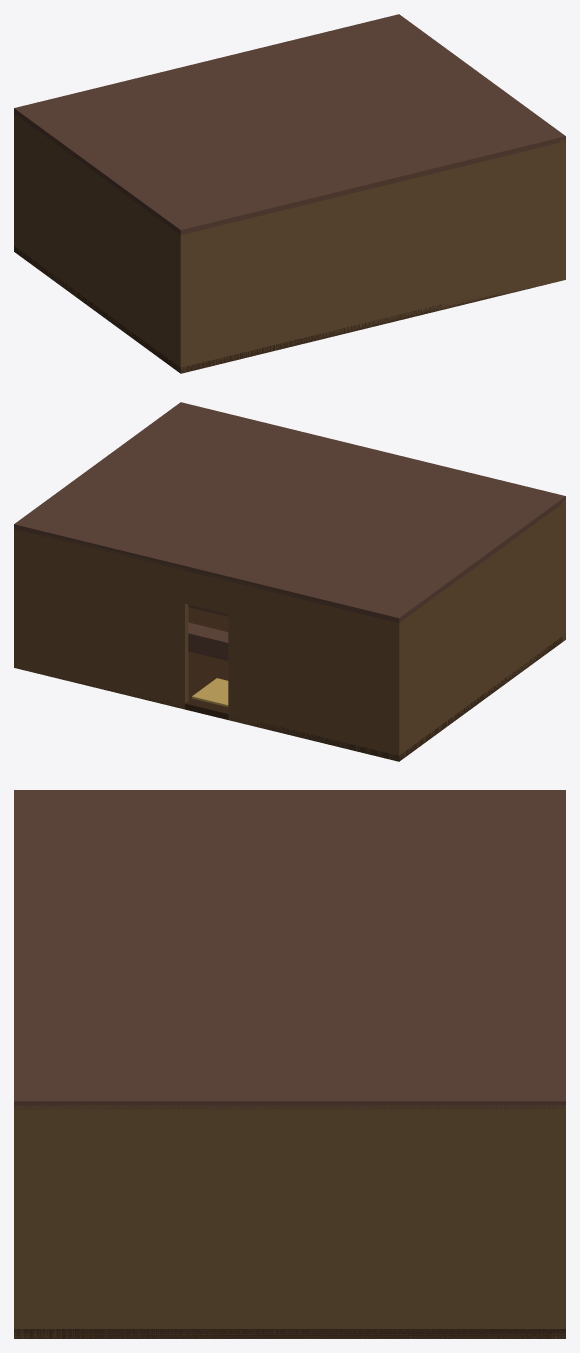
The model's file is hall.glb.
The picture shows the model from 3 angles, top to bottom: view 1: azimuth 30°, elevation 25°; view 2: azimuth 150°, elevation 25°; view 3: azimuth 270°, elevation 25°; orthographic projection. The views are drawn at different scales.
Visible parts, largest first — view 1: ceiling, wall_north, wall_west, floor, wall_east; view 2: ceiling, wall_south_r, wall_south_l, wall_west, floor, wall_south_lintel, furniture_bench_2, interior_exit_pad, wall_east, wall_north; view 3: ceiling, wall_east, floor, wall_north, wall_south_r.
Part boxes in pixels (bbox=[...]): ceiling: bbox=[14, 14, 565, 234]; wall_north: bbox=[177, 140, 565, 373]; wall_west: bbox=[14, 113, 186, 373]; floor: bbox=[14, 246, 546, 373]; wall_east: bbox=[560, 139, 565, 280]; ceiling: bbox=[14, 402, 565, 622]; wall_south_r: bbox=[14, 528, 188, 709]; wall_south_l: bbox=[228, 579, 400, 760]; wall_west: bbox=[393, 504, 562, 761]; floor: bbox=[51, 607, 565, 761]; wall_south_lintel: bbox=[185, 569, 228, 613]; furniture_bench_2: bbox=[188, 622, 228, 660]; interior_exit_pad: bbox=[192, 678, 228, 706]; wall_east: bbox=[14, 527, 19, 667]; wall_north: bbox=[562, 499, 565, 641]; ceiling: bbox=[14, 790, 565, 1109]; wall_east: bbox=[14, 1105, 565, 1338]; floor: bbox=[14, 1329, 565, 1338]; wall_north: bbox=[14, 1105, 24, 1338]; wall_south_r: bbox=[555, 1105, 565, 1338].
Size of the model in its own units: 8 by 2.85 by 6.
